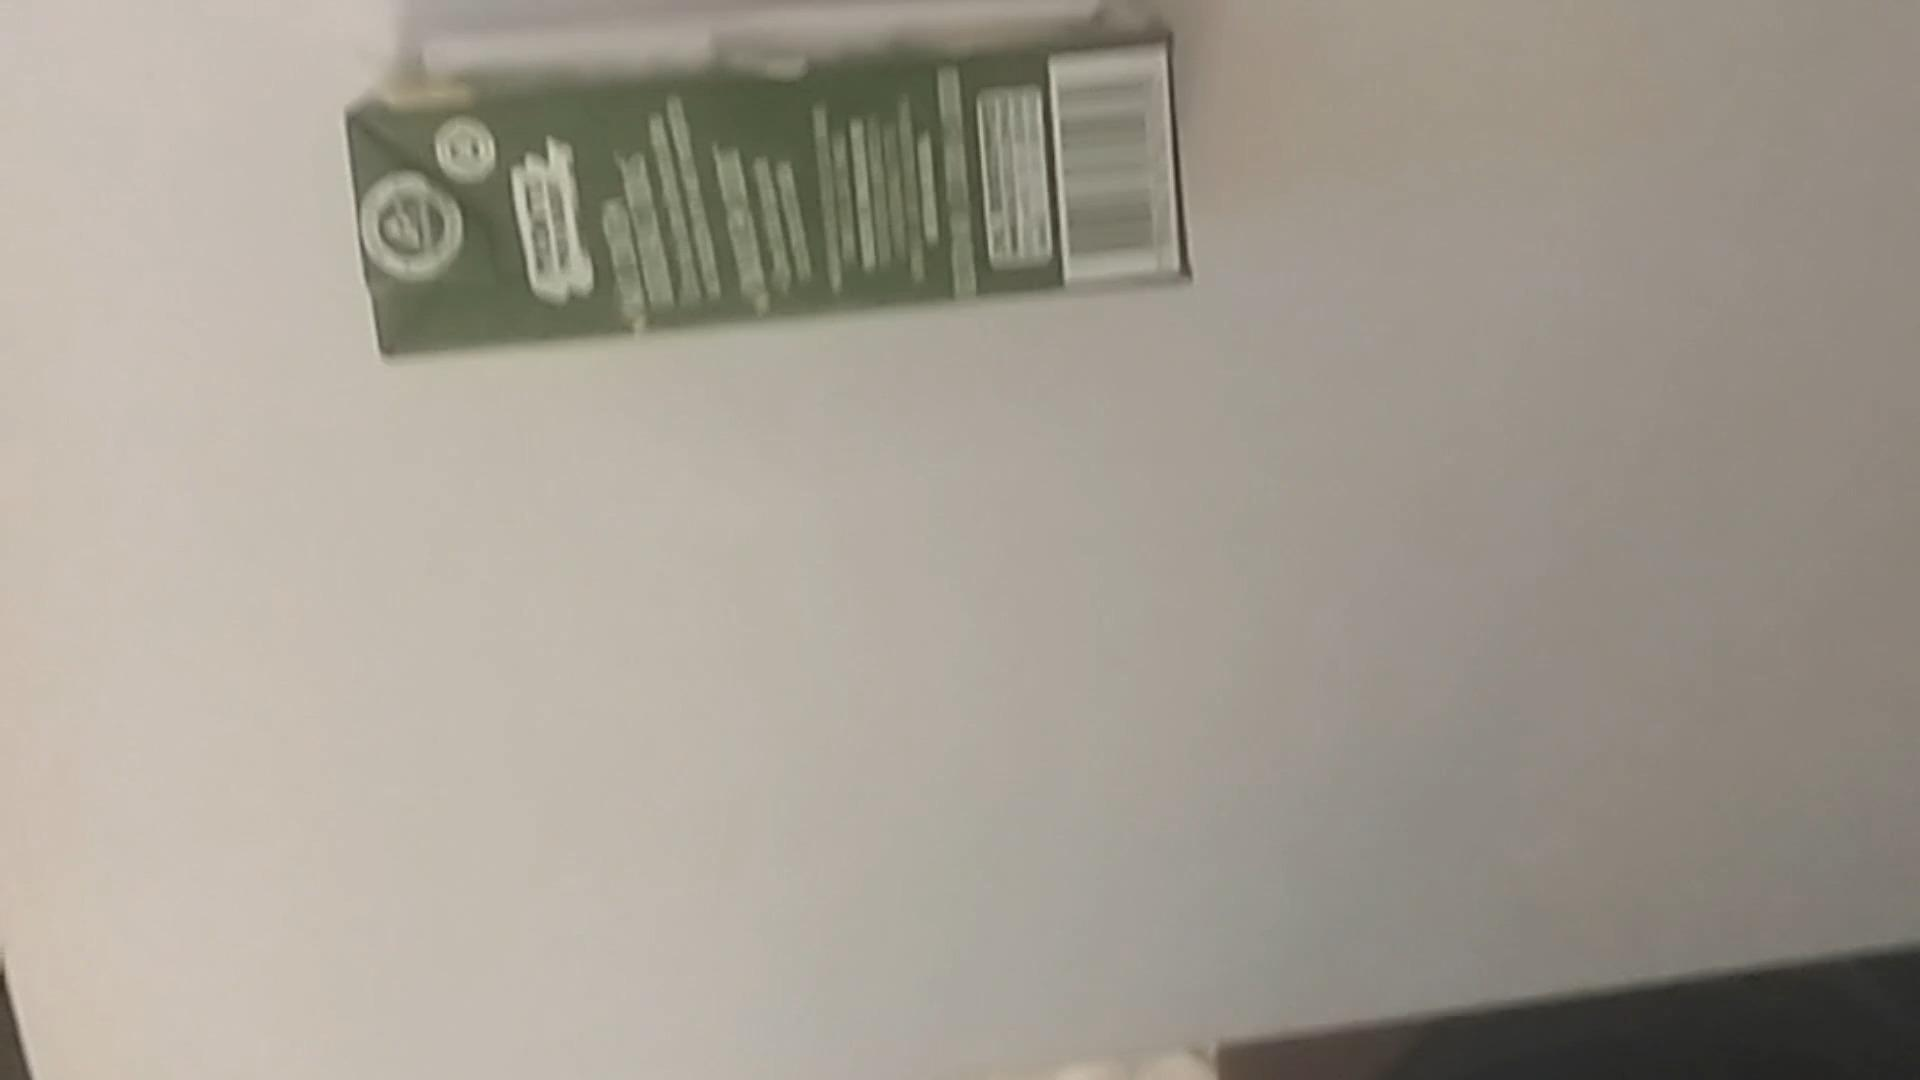coco: (338, 12, 1208, 357)
